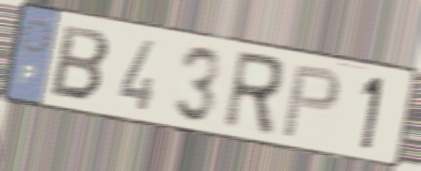1: (358, 74, 385, 153)
3: (174, 44, 226, 125)
4: (117, 38, 156, 113)
B: (46, 21, 113, 104)
P: (278, 62, 343, 141)
R: (219, 48, 287, 141)
